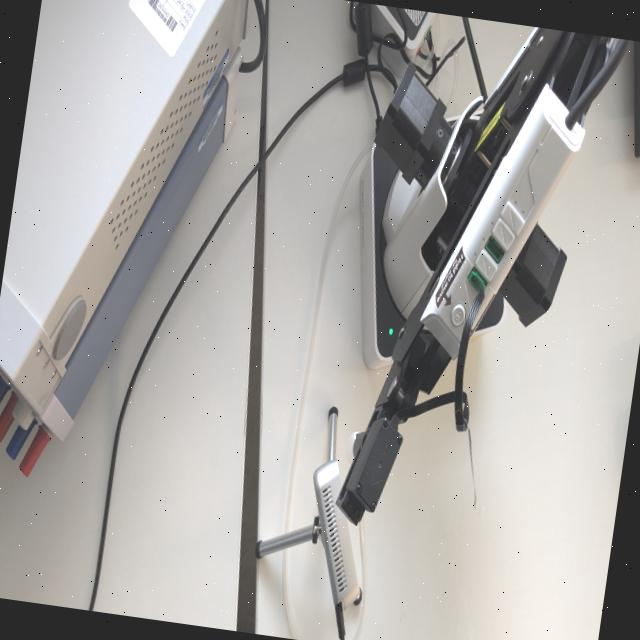Robot-end-effector-HF8z: (332, 402, 408, 534)
